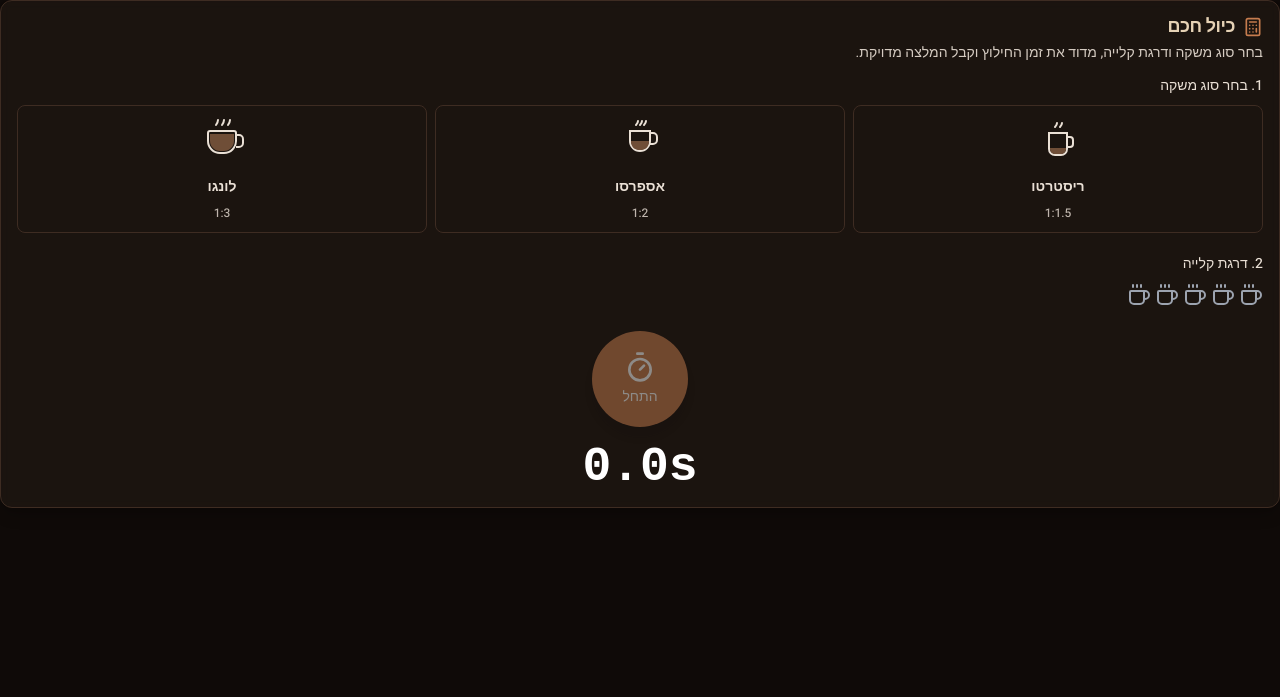
SmartDialIn › timer starts and stops on button click
Click the button "אספרסו 1:2". click: (640, 141)
box: [435,105,845,233]
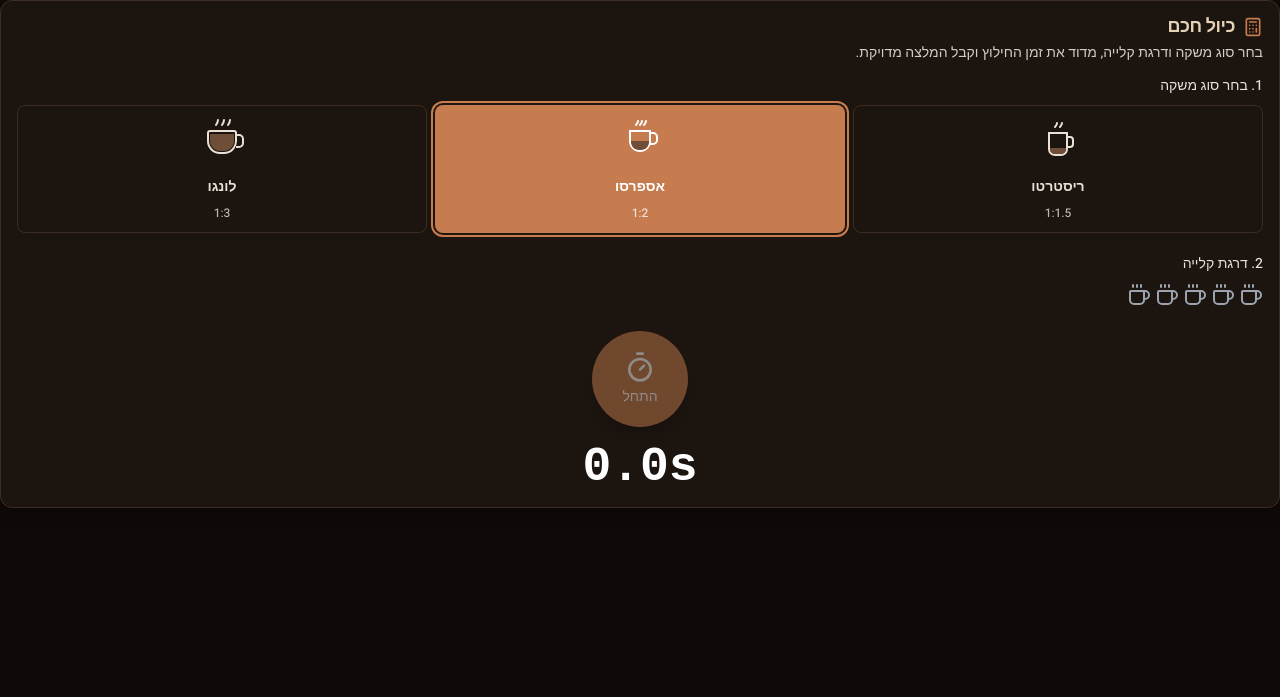
Click the radio button named "דרגת קלייה 3 מתוך 5". click: (1195, 295)
box: [1183,283,1207,307]
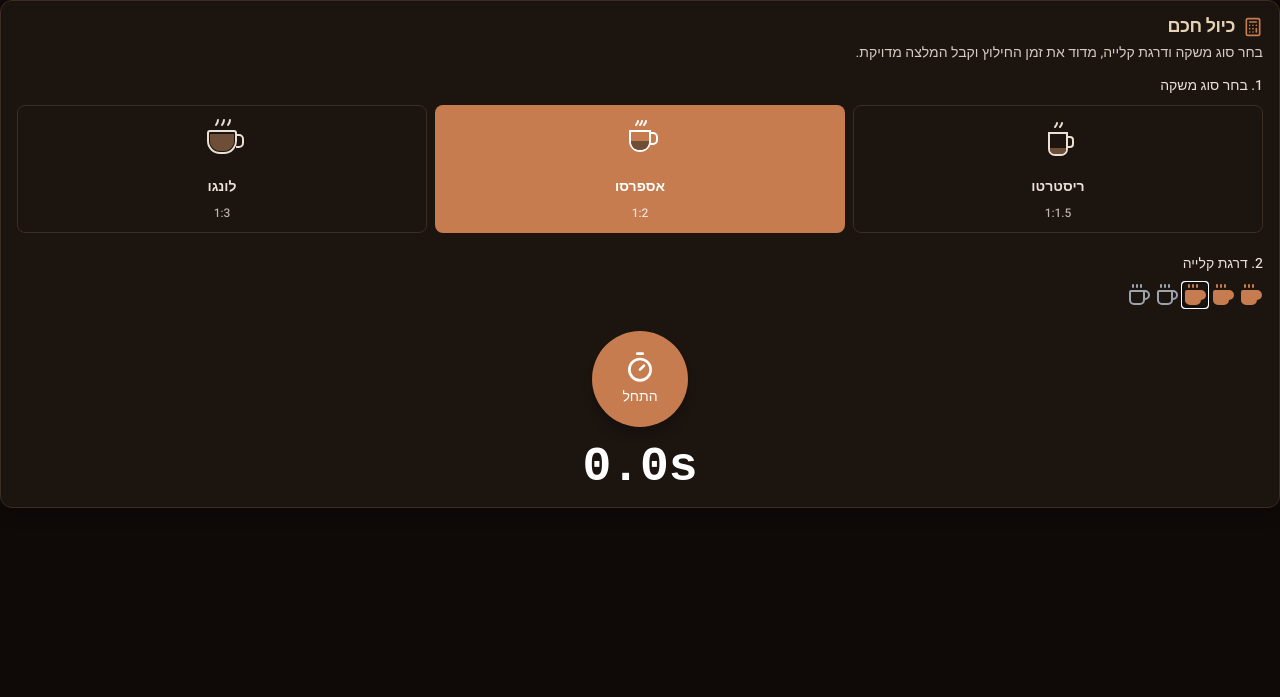
Click the button "התחל". click: (640, 379)
box: [592,331,688,427]
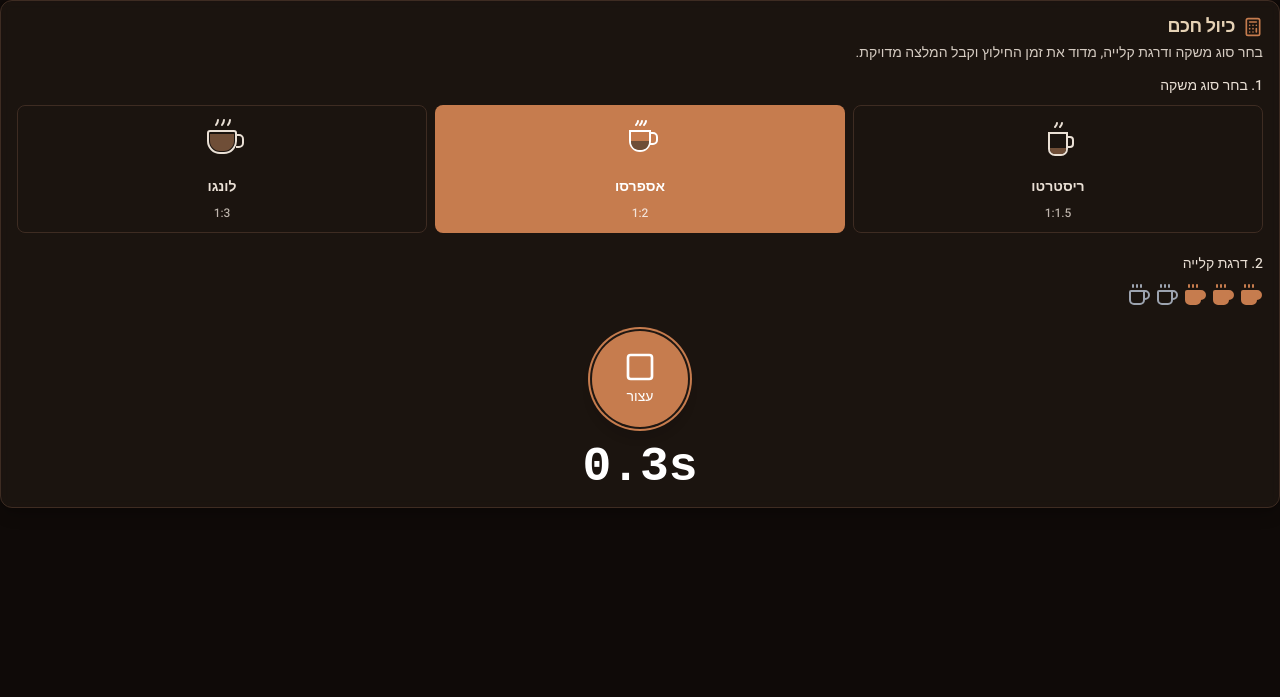
Now the button "עצור" is shown
Click the button "עצור". click: (640, 379)
box: [592,331,688,427]
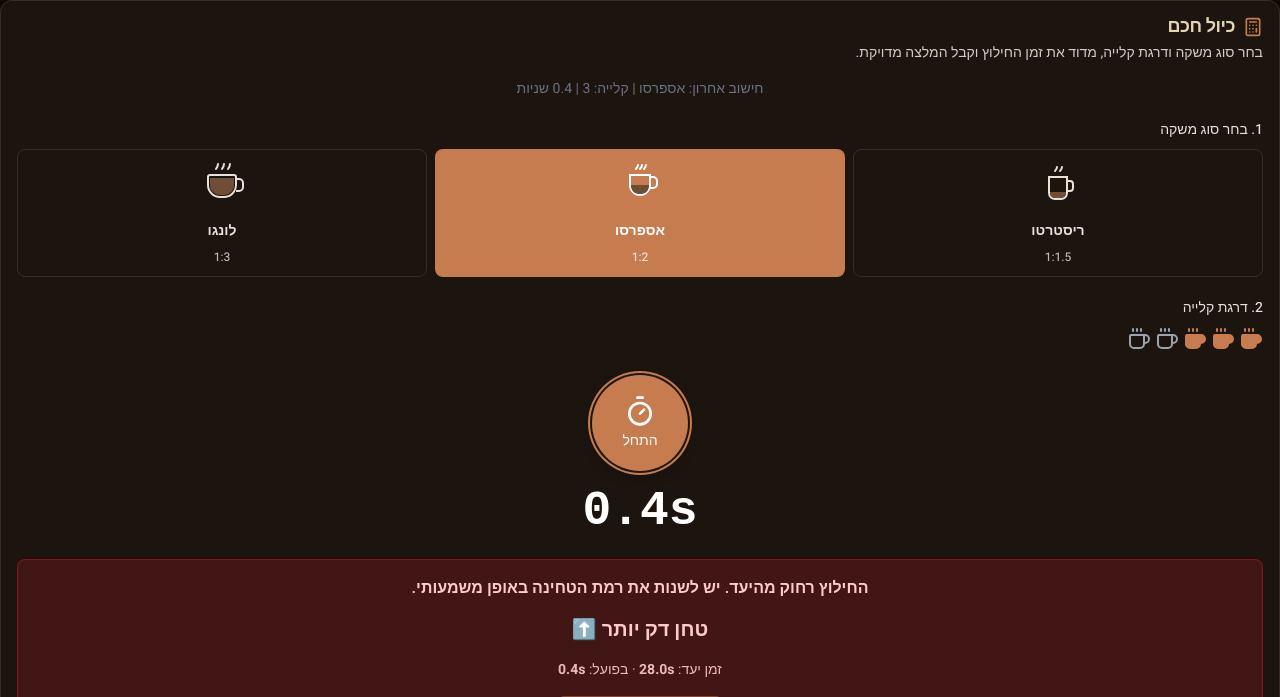
Now the button "התחל" is shown, box [592,375,688,471]
